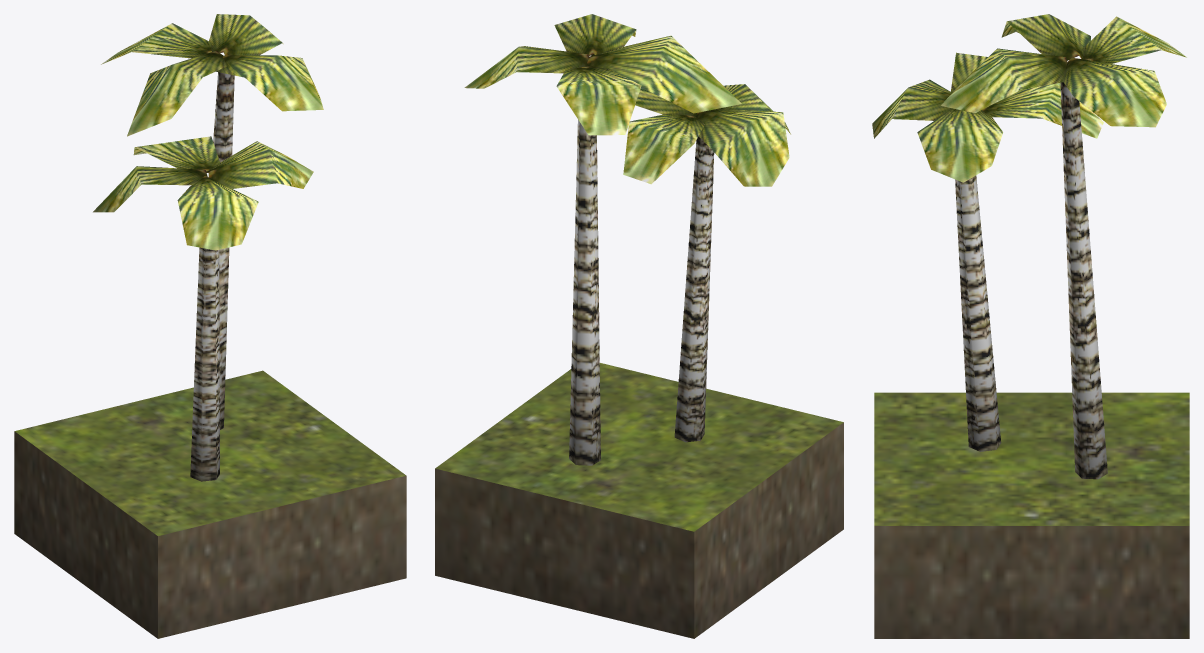
Rendered from jun_boundary_tree_double.obj.
The picture shows the model from 3 angles, left to right: view 1: azimuth 30°, elevation 25°; view 2: azimuth 150°, elevation 25°; view 3: azimuth 270°, elevation 25°; orthographic projection. The views are drawn at different scales.
Parts seen in each view (by area): view 1: grass_earth_1; view 2: grass_earth_1; view 3: grass_earth_1.
Boxes of the visible parts, x1,y1,x2,y2 form: grass_earth_1: (14,14,406,638); grass_earth_1: (435,14,843,638); grass_earth_1: (872,14,1189,638).
Size of the model in its own units: 1 by 1.9 by 1.01.
1 material, 1 textured.
